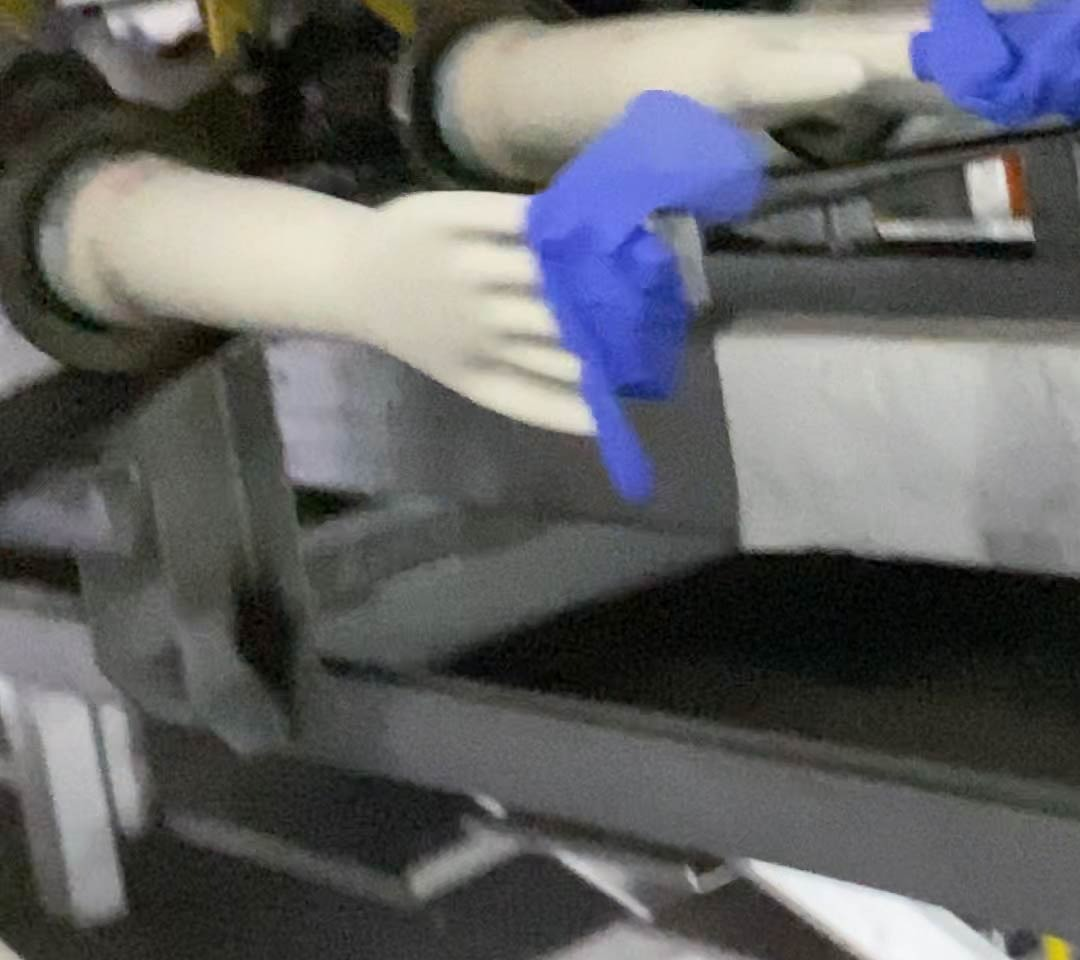glove: (529, 89, 756, 504)
